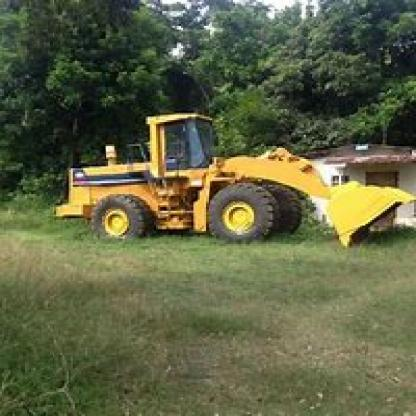bull_dozer/loader/grader: (48, 104, 414, 255)
